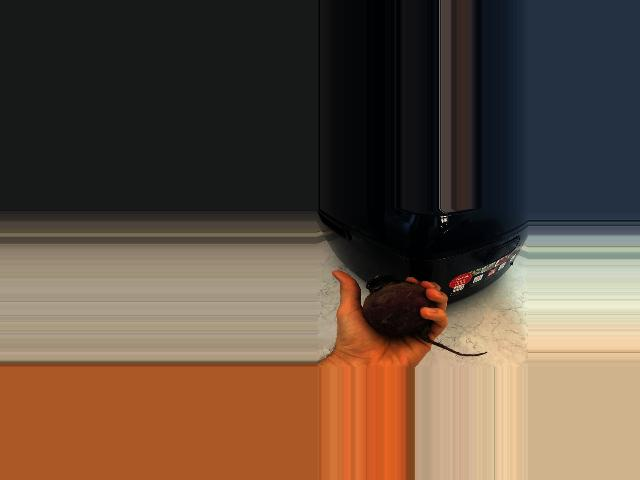beet: (363, 275, 487, 357)
